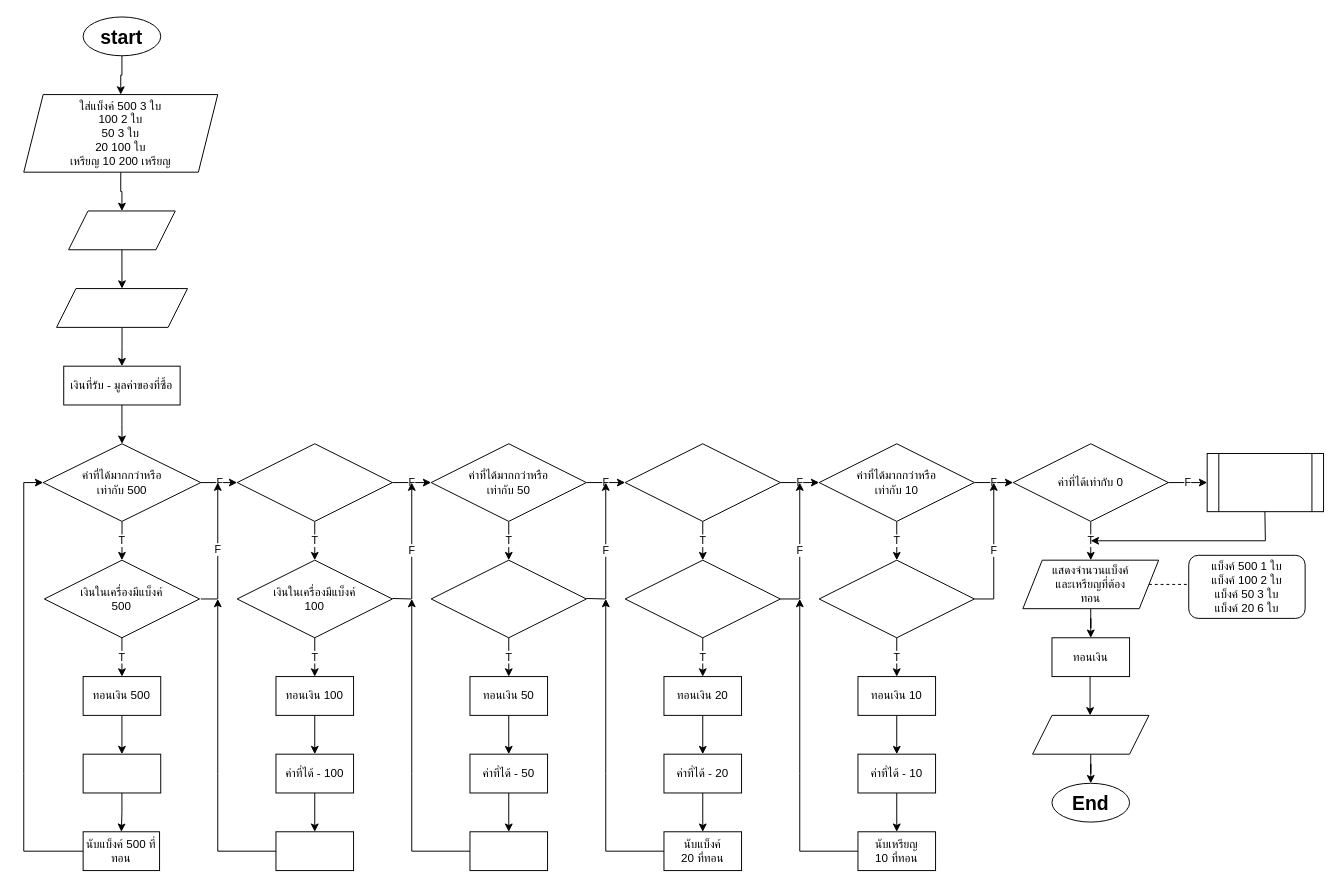
Some shapes in this 1341 by 888 pixel diagram are drawn without their labels. The shapes that lost their labels are listed below. From the top down, each one's centre as x and y in pixels, then its label:
[121,230]: ซื้อของ 30 บาท
[122,307]: รับเงินมา 1,000 บาท
[314,482]: ค่าที่ได้มากกว่าหรือ เท่ากับ 100
[702,482]: ค่าที่ได้มากกว่าหรือ เท่ากับ 20
[1265,482]: ทอนเหรียญ 5 2 หรือ 1 บาท ตามจำนวนที่เหลือ
[508,598]: เงินในเครื่องมีแบ็งค์ 50
[702,598]: เงินในเครื่องมีแบ็งค์ 20
[896,598]: เงินในเครื่องมีเหรียญ 10
[1090,734]: "ทอนเงินเสร็จสิ้น"
[121,773]: ค่าที่ได้ - 500
[314,851]: นับแบ็งค์ 100 ที่ทอน
[508,851]: นับแบ็งค์ 50 ที่ทอน
